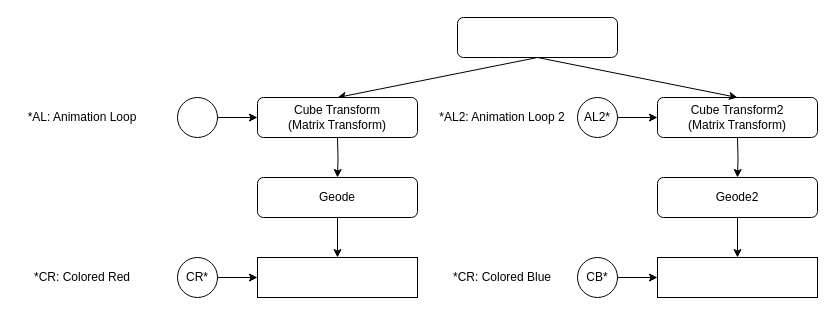
Image size: 835x315. Some labels were removed from this diagram. The shapes that lost their labels are listed below. From the top down, each one's box as (x1, y1, x2, y2) in pixels, then its label:
(456, 16, 618, 58): Root node
(176, 96, 218, 138): AL*
(256, 256, 418, 298): Shape Drawable (Box)
(656, 256, 818, 298): Shape Drawable2 (Box2)
